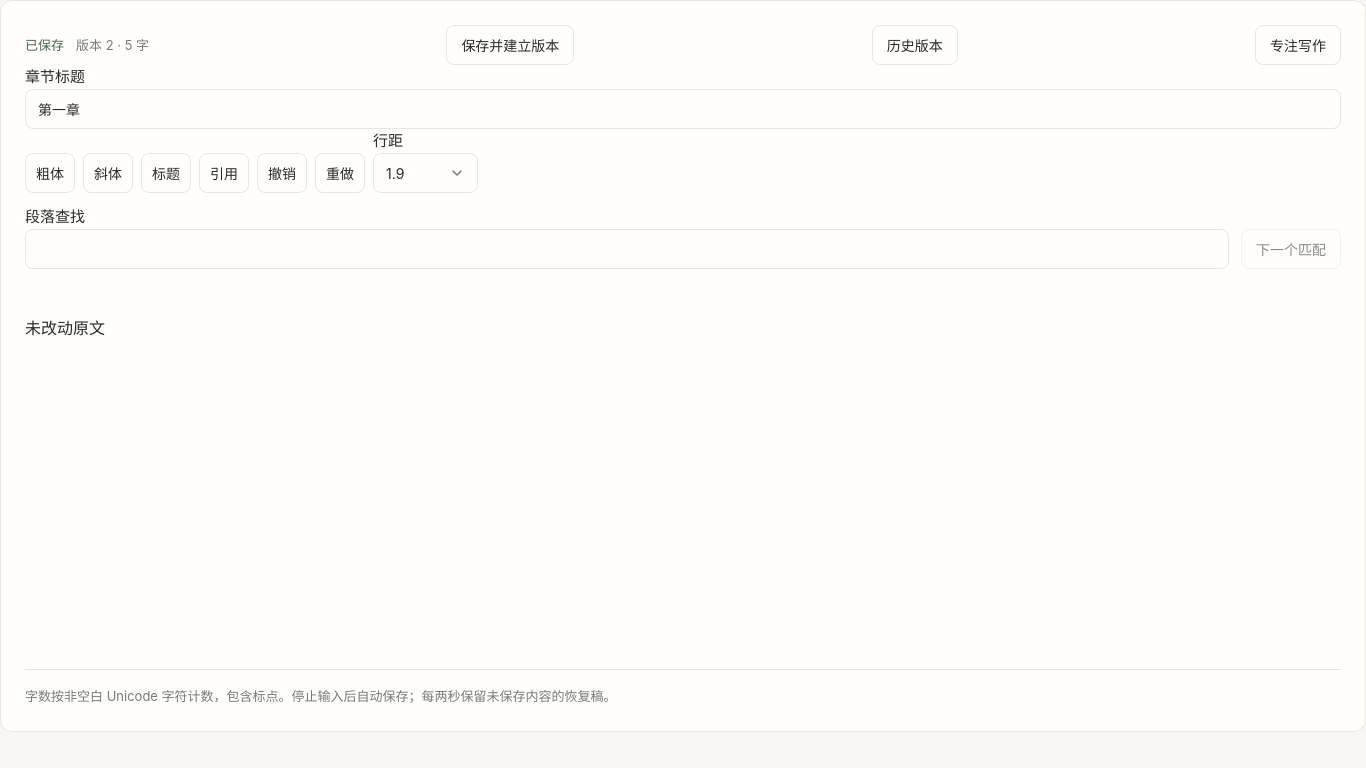
Test case: 章节保存使用所属作品和不可变快照，旧回执不会清除后续输入
Replace the text in the field labelled "章节标题" with "先提交的标题" at (683, 109), box [25,89,1341,129]
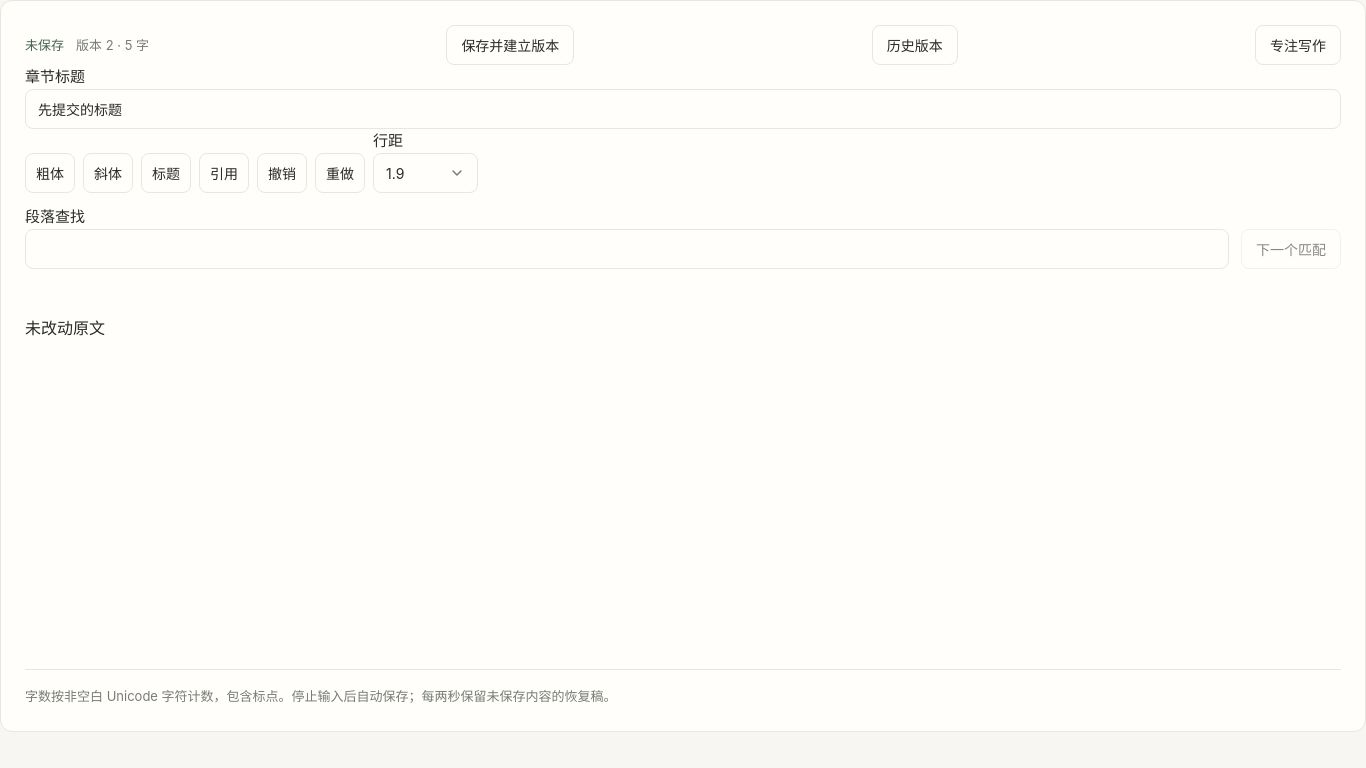
Click the button "保存并建立版本" at (510, 45), box [446,25,574,65]
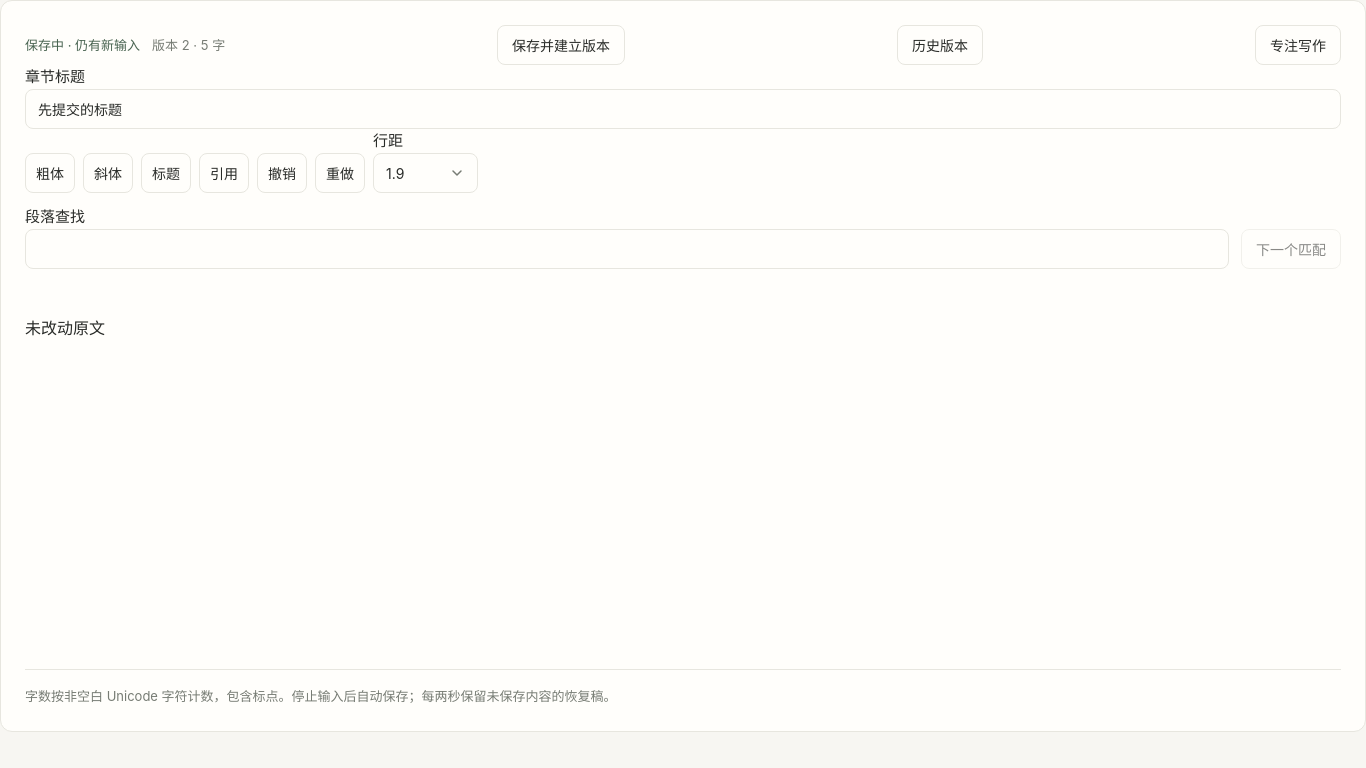
Replace the text in the field labelled "章节标题" with "保存期间的新标题" at (683, 109), box [25,89,1341,129]
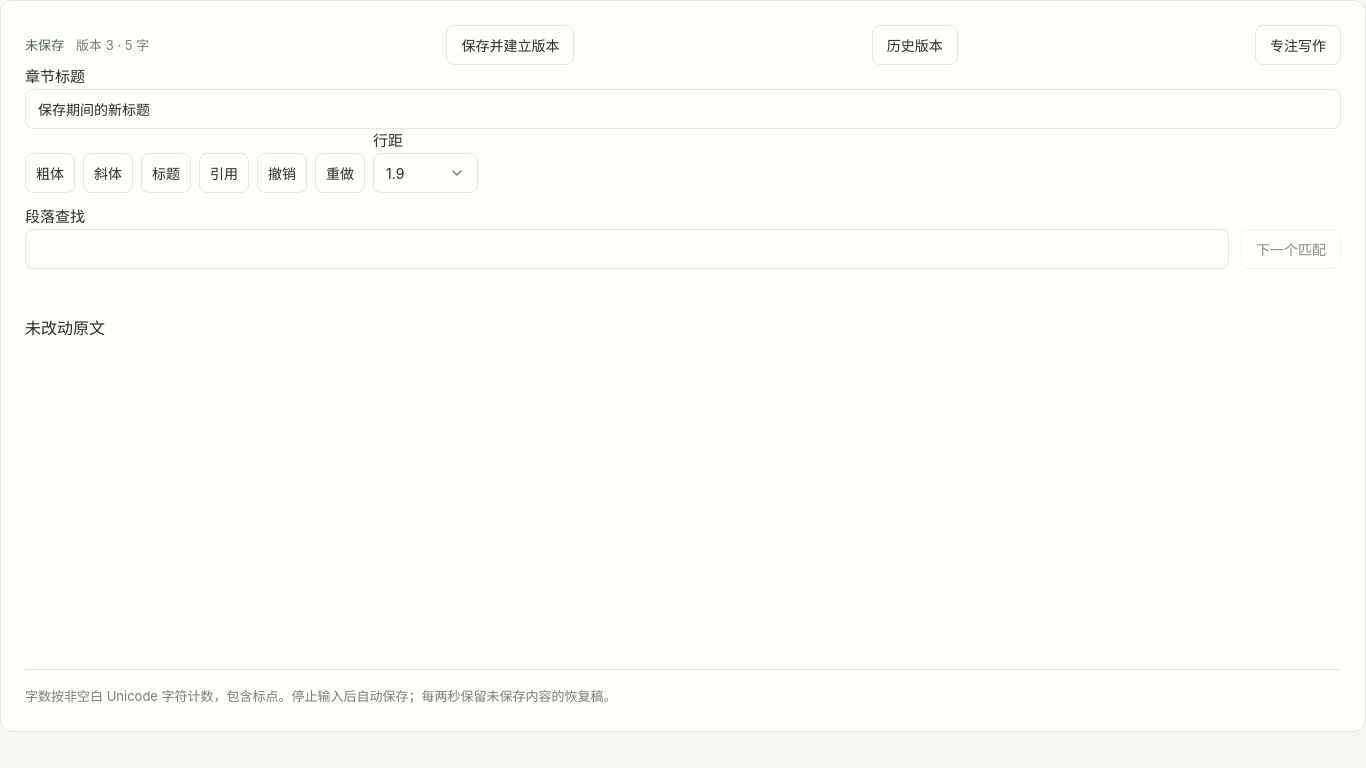
expect the message reads "未保存": met, box [25,37,64,53]
